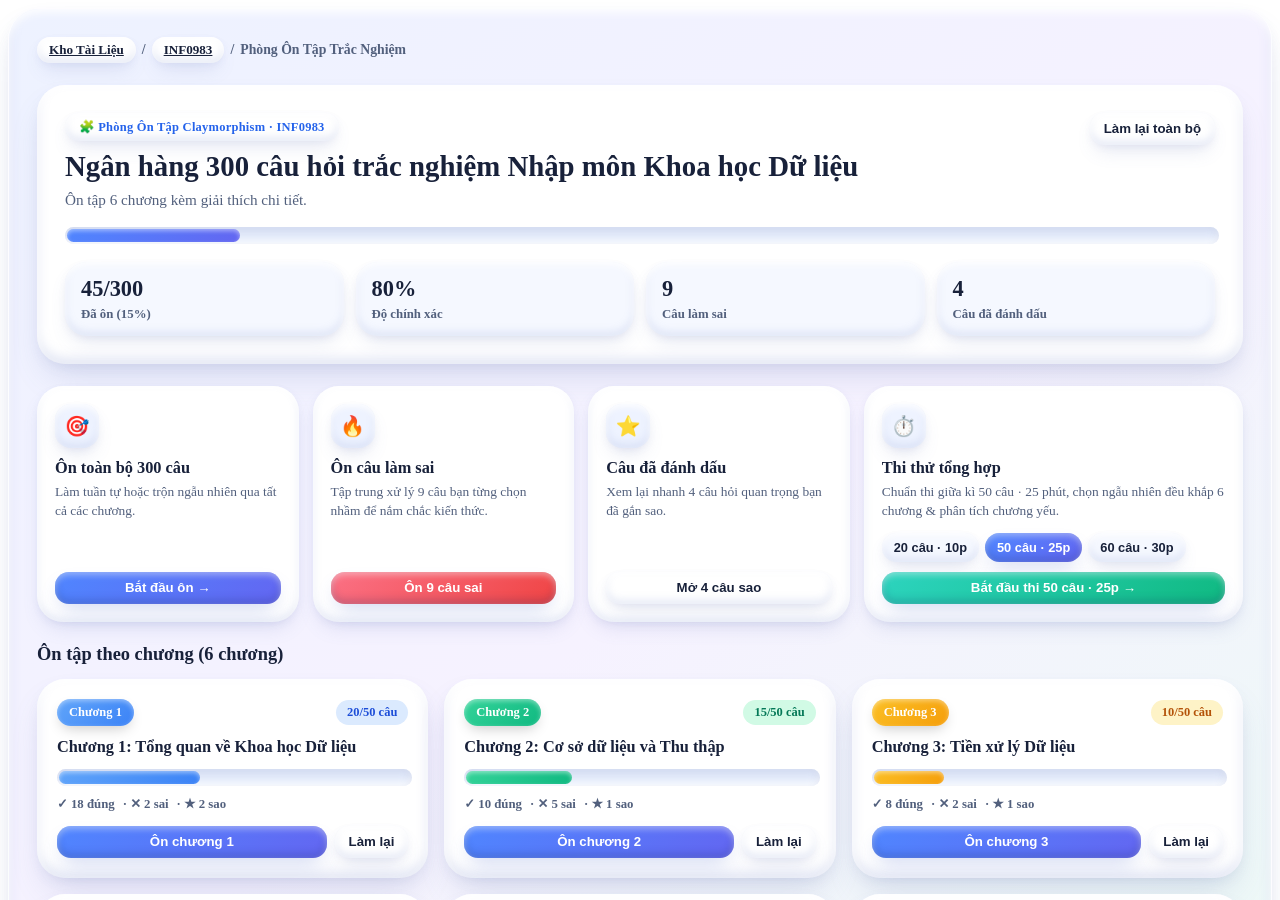
it: PracticeBankPage (Hub, Practice Runner, Mock Exam) › starts and submits a mock exam and renders chapter breakdown summary
Expected: the heading "Thi thử tổng hợp" is shown, [882, 458, 1001, 477]
Click the button "Bắt đầu thi 50 câu · 25p →" at (1053, 588), box [882, 572, 1225, 604]
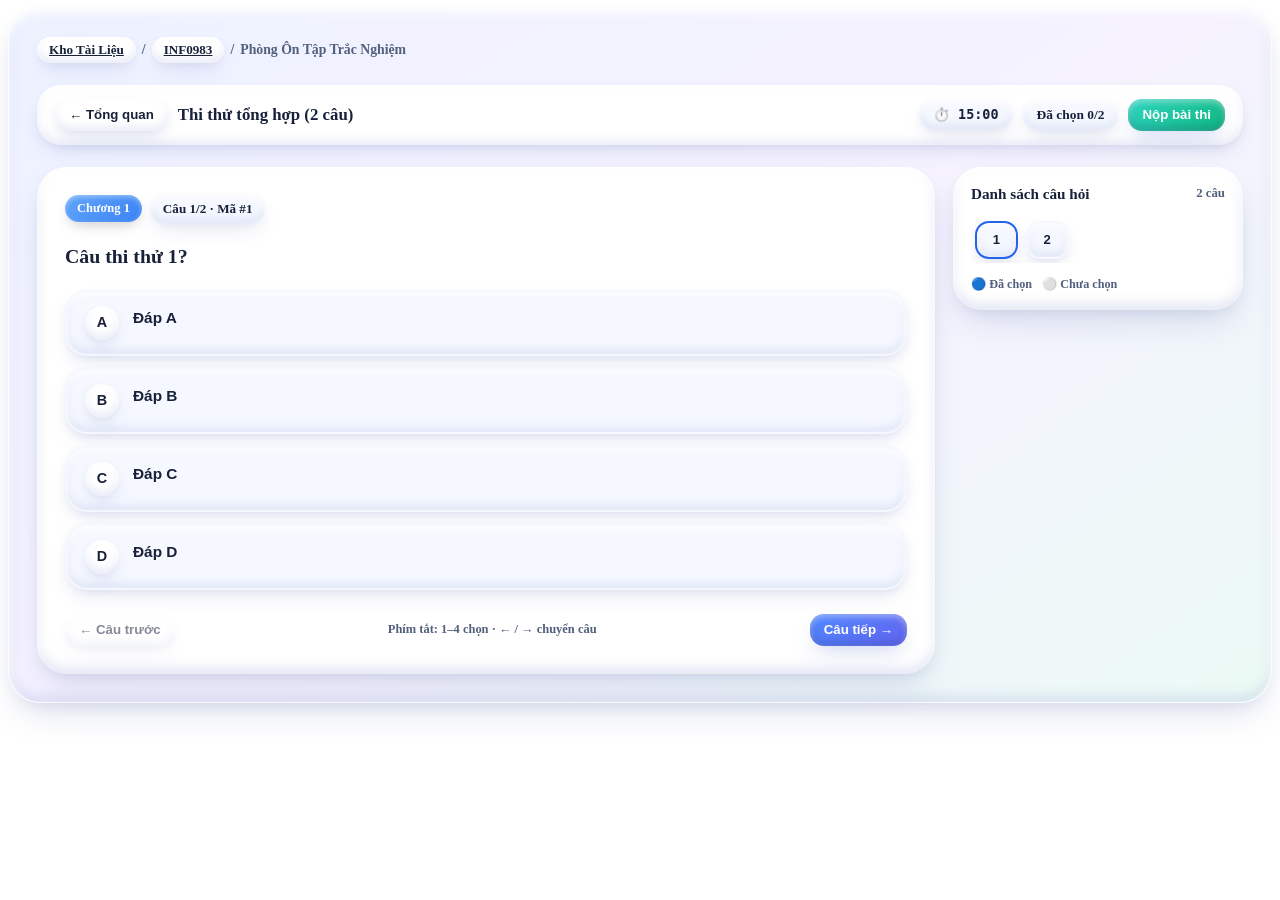
Result: the text "Câu thi thử 1?" is shown at [65, 245, 188, 267]
Click the radio button labelled "A Đáp A" at (102, 323), box [65, 290, 907, 356]
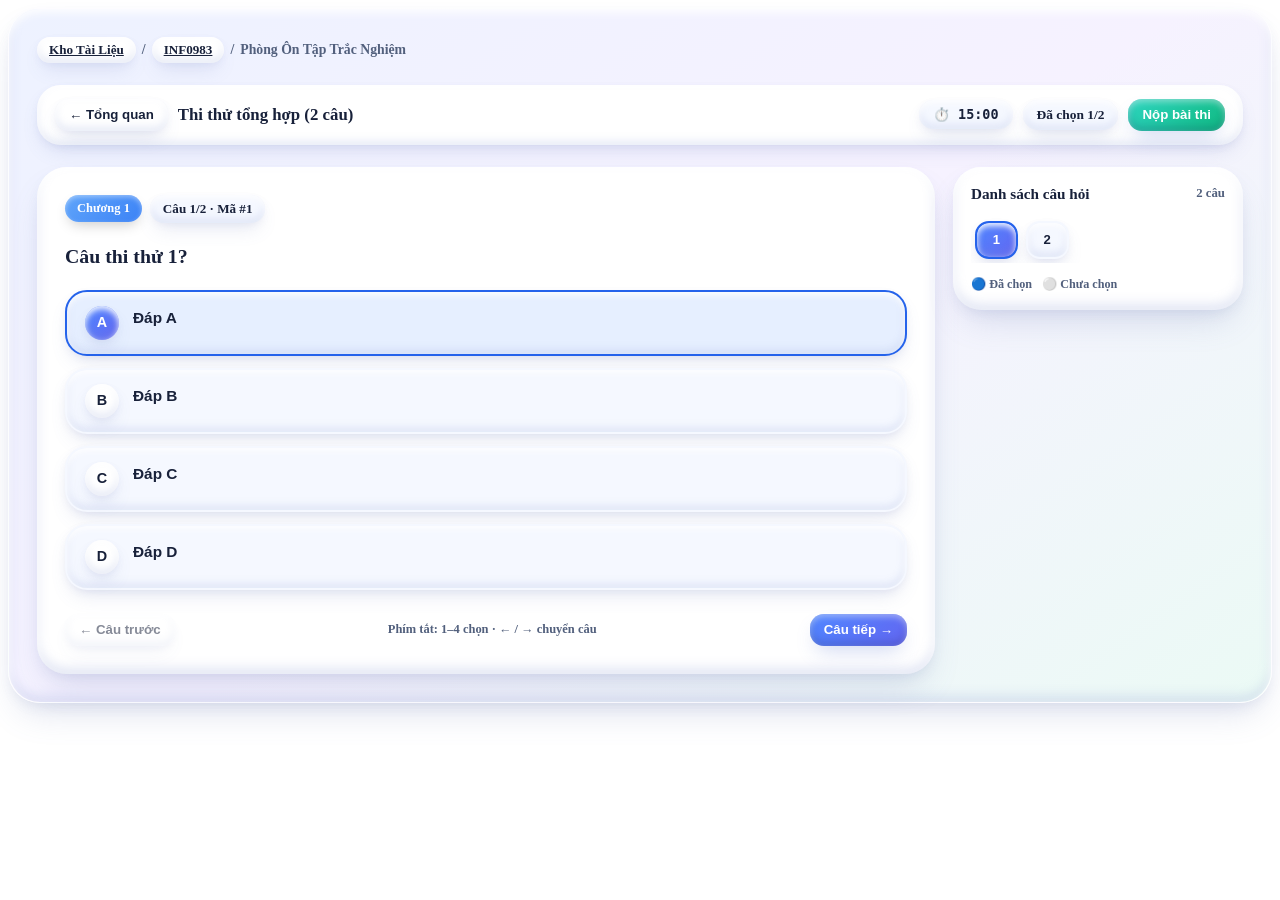
Click the button "Câu tiếp →" at (858, 630), box [810, 614, 907, 646]
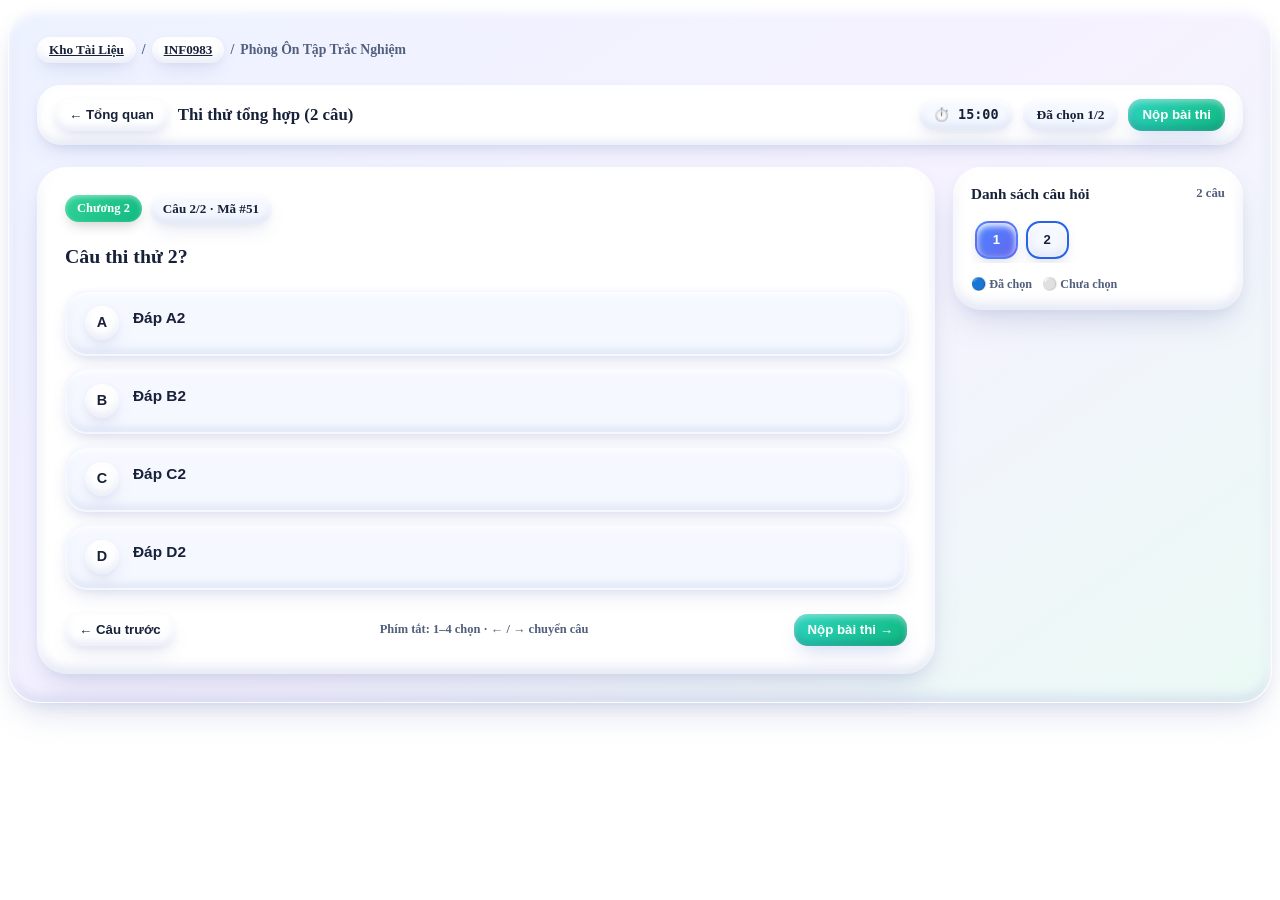
Result: the text "Câu thi thử 2?" is shown at [65, 245, 188, 267]
Click the radio button labelled "B Đáp B2" at (102, 401), box [65, 368, 907, 434]
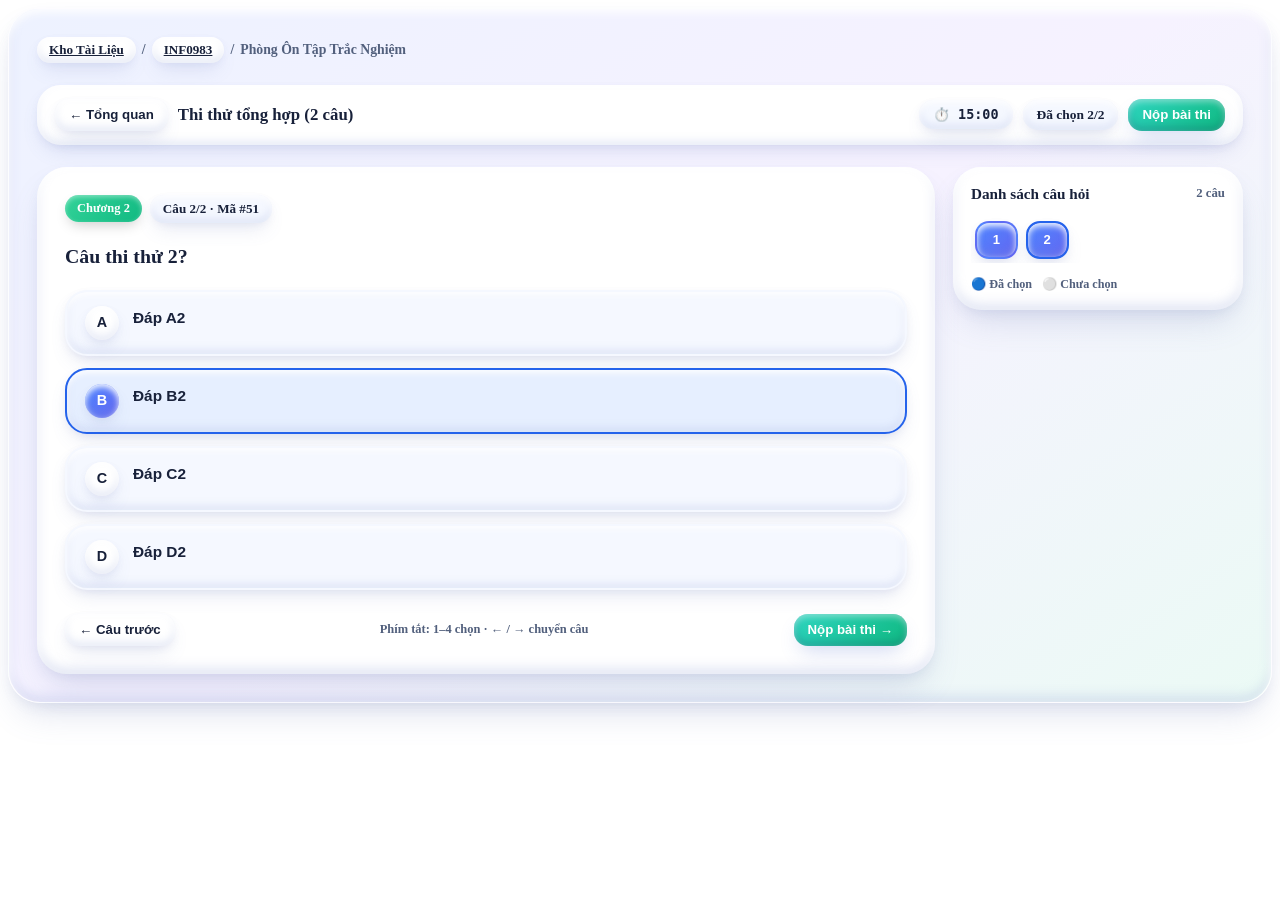
Click the button "Nộp bài thi" at (1177, 115), box [1128, 99, 1225, 131]
(page scrolled)
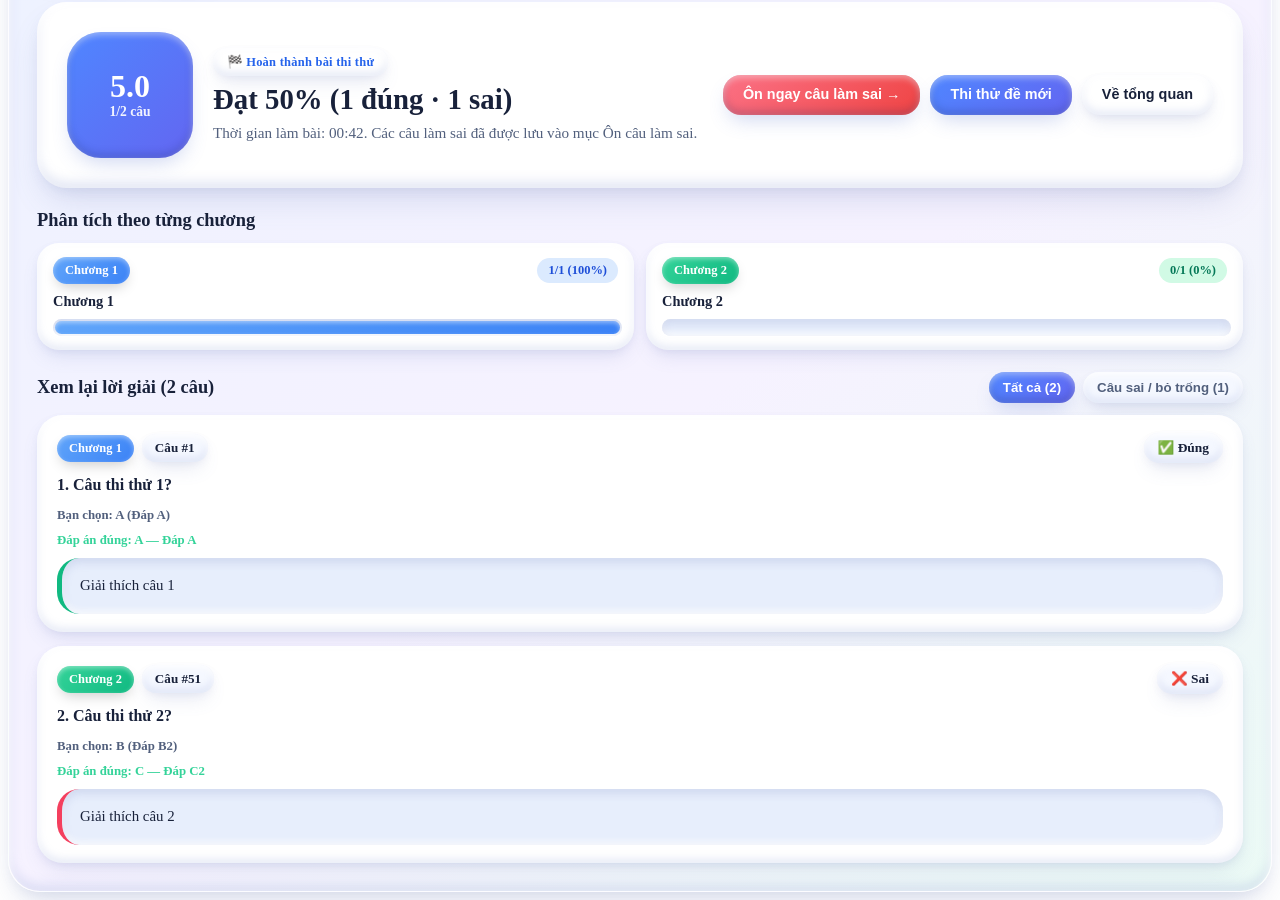
Result: the text "🏁 Hoàn thành bài thi thử" is shown at [213, 48, 388, 76]
Result: the heading "Đạt 50% (1 đúng · 1 sai)" is shown at [213, 83, 512, 115]
Result: the heading "Phân tích theo từng chương" is shown at [37, 210, 255, 230]
